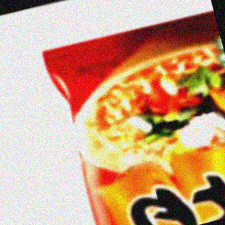vinyl_s: (29, 17, 225, 225)
